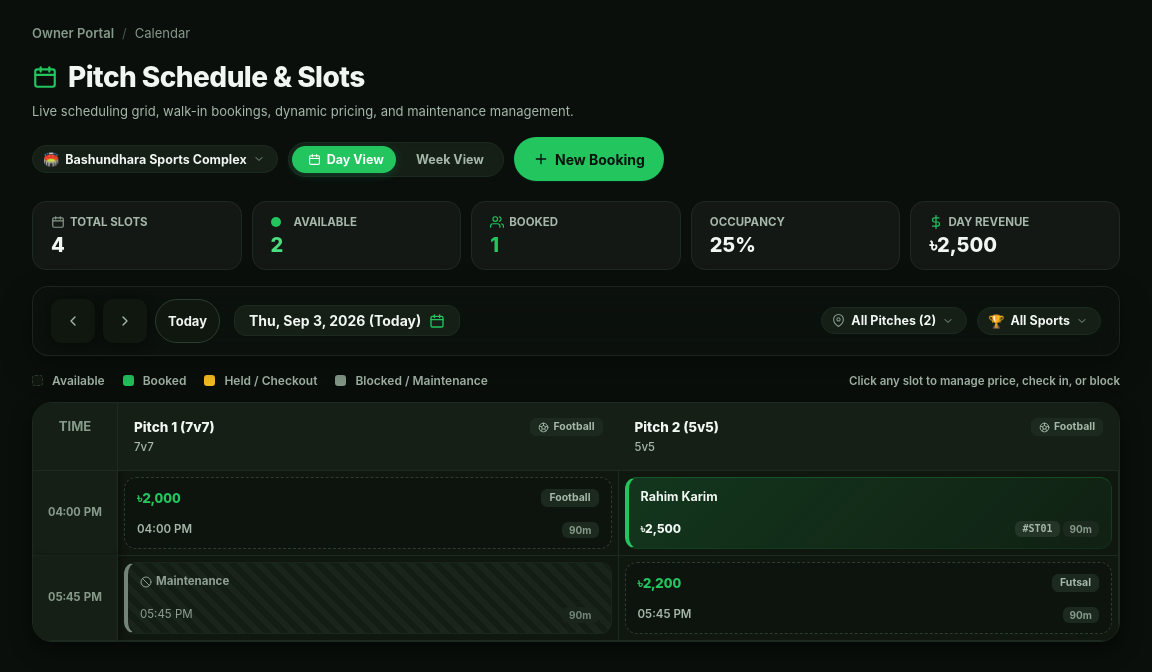
Owner CalendarPage — comprehensive redesign tests › toggling to week view renders all 7 days with valid schedule
Expected: the text "Pitch Schedule & Slots" is shown, [68,56,365,98]
Click the button "Week View" at (450, 159), box [400,146,500,172]
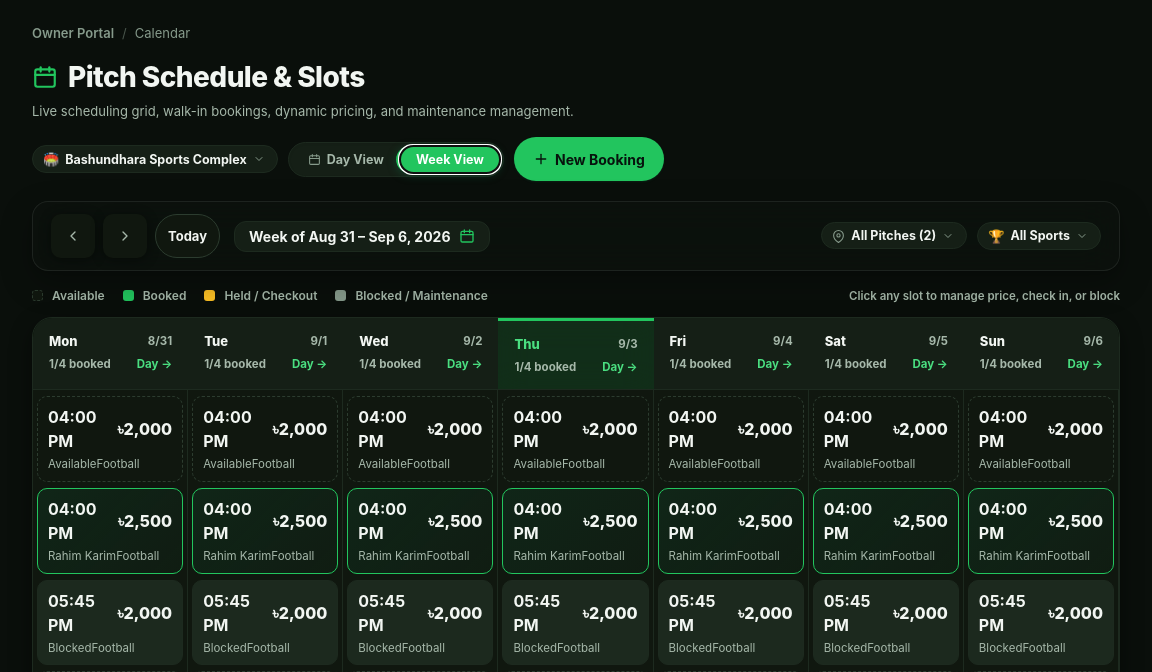
Result: the text "Week of Aug 31 – Sep 6, 2026" is shown at [249,228,450,244]
